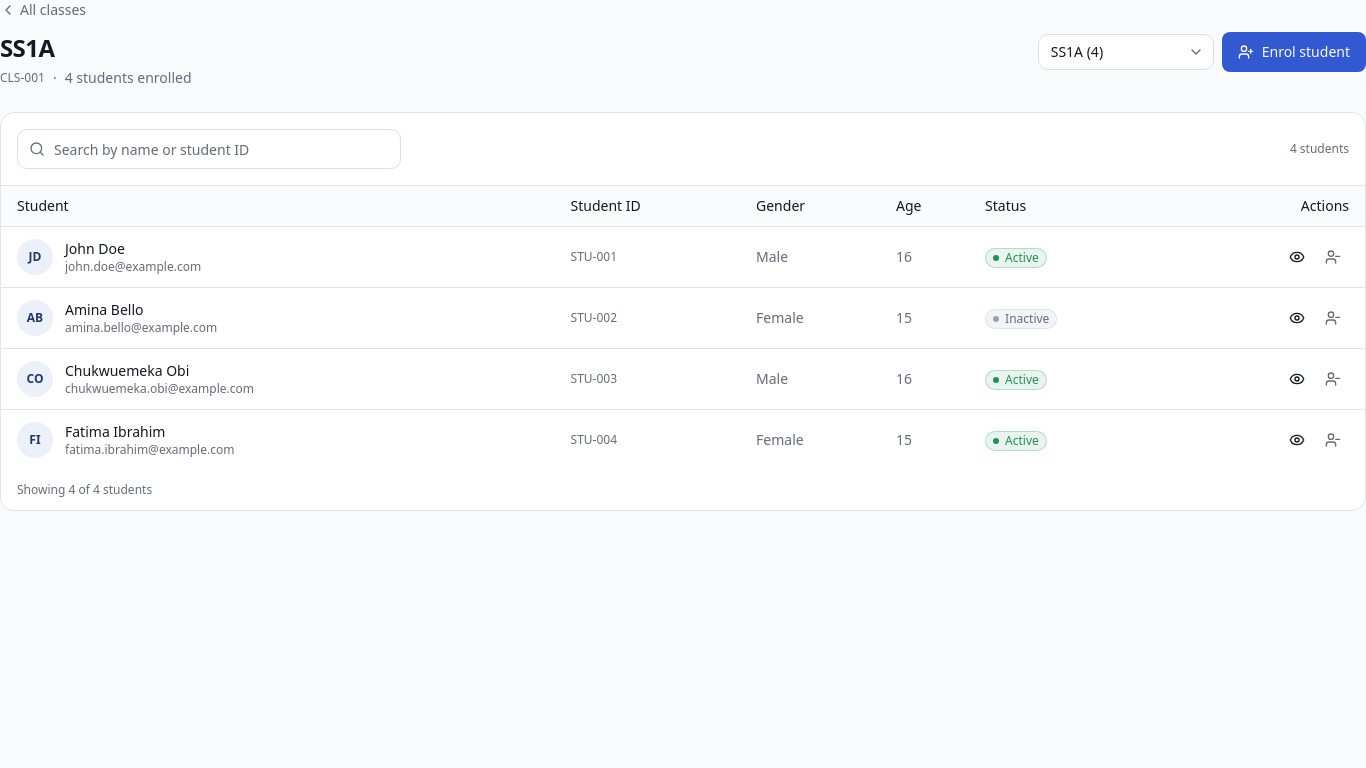
Test case: ClassDetailView › keeps the roster unchanged when a removal is cancelled
Click the button named "remove john doe from this class": (1333,256) [1317,240,1349,272]
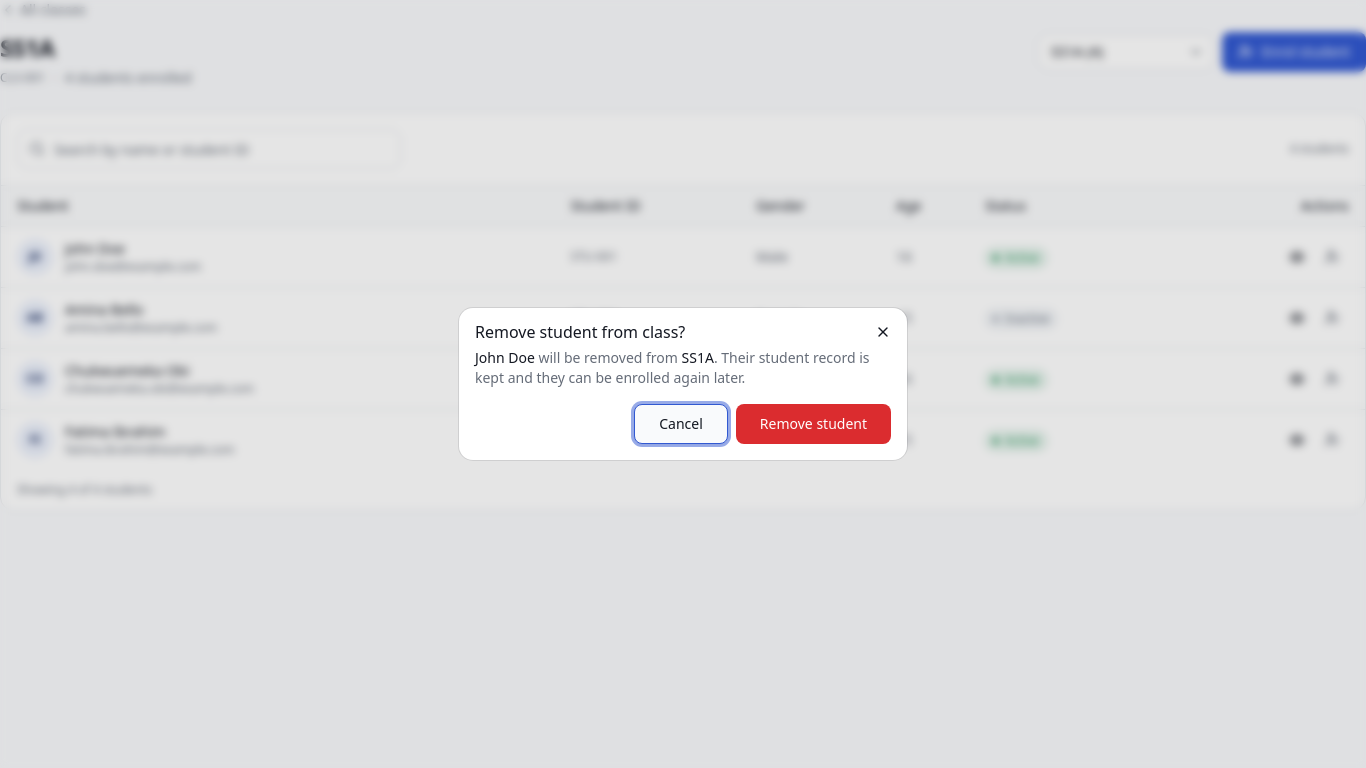
Click the button "Cancel": (681,424) [634,404,728,444]
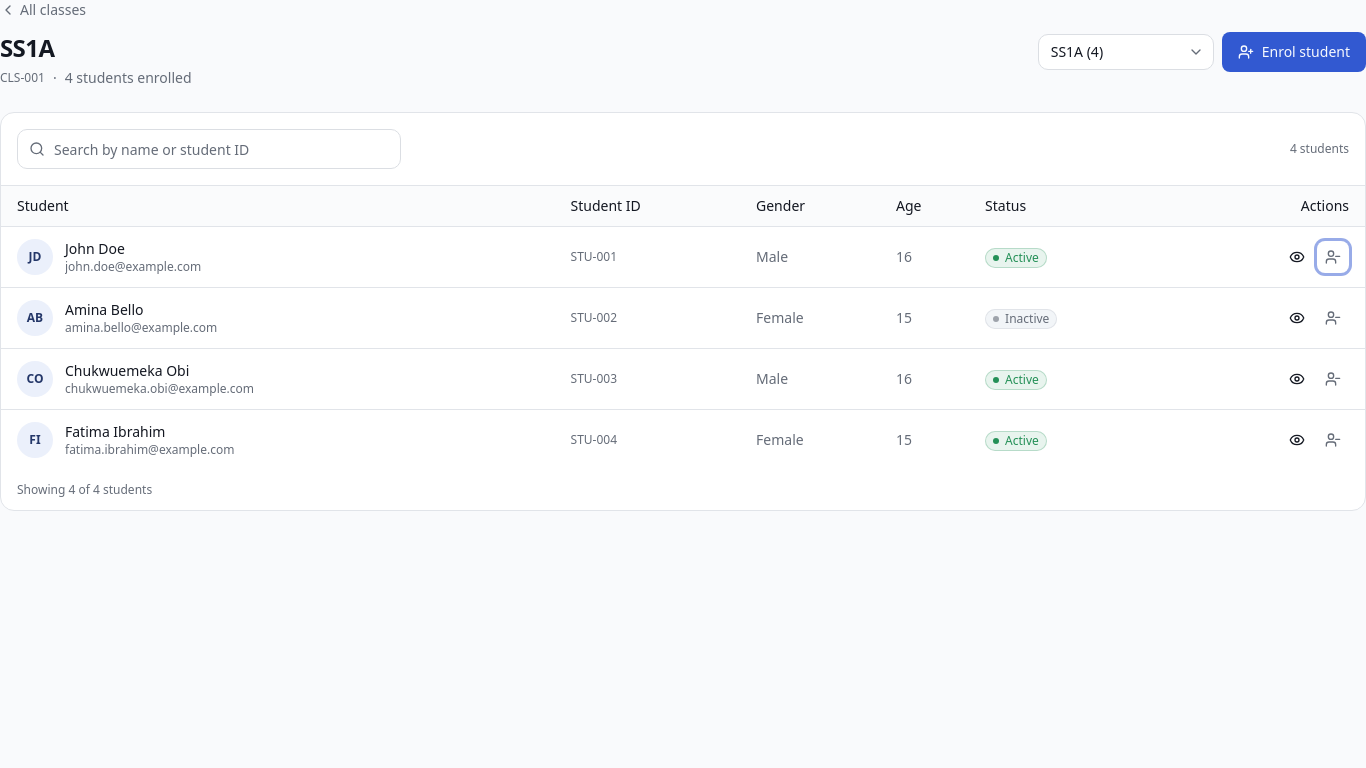
Expected: the link "John Doe" is shown, [65,238,125,258]
Result: the dialog is gone
